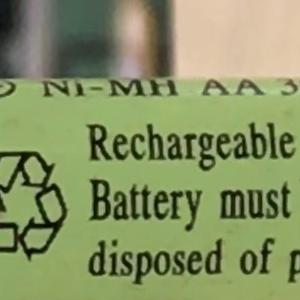NI-MH: (32, 70, 187, 107)
